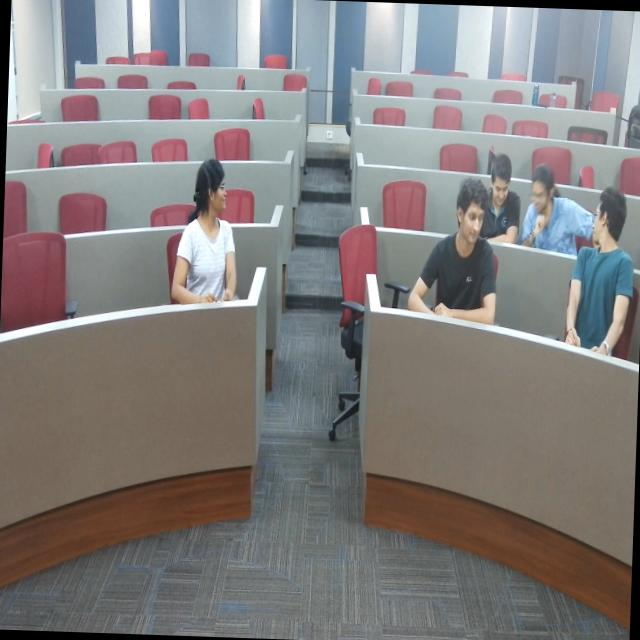cheating: (153, 155, 260, 319), (567, 191, 640, 377), (421, 182, 502, 332), (515, 168, 596, 260)
